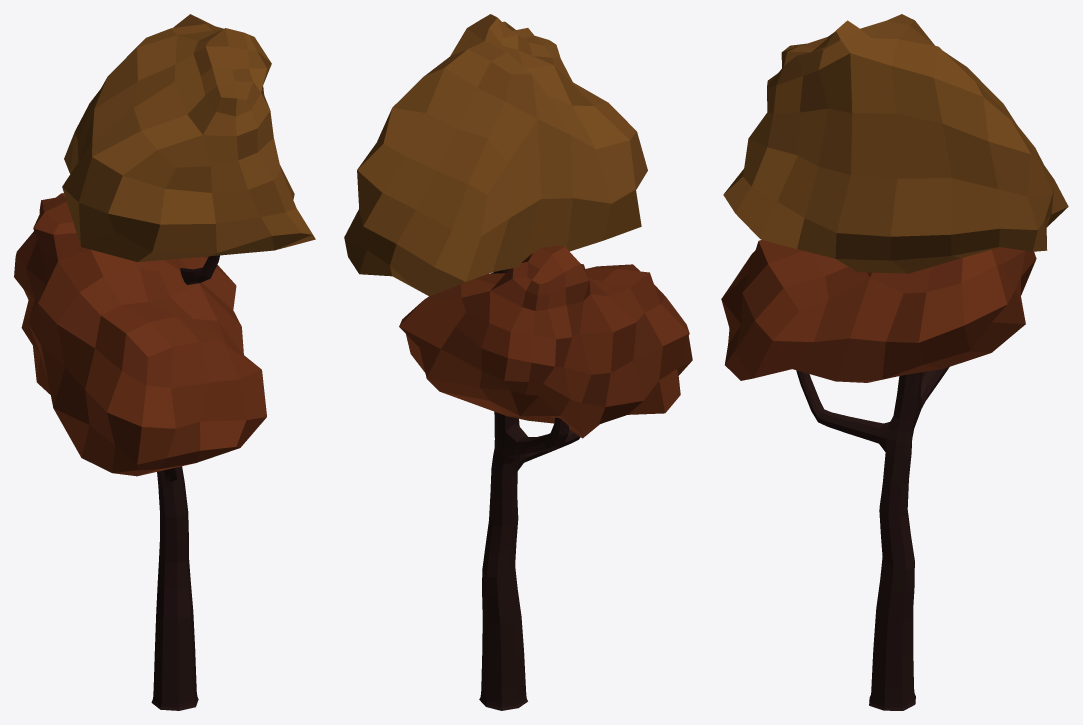
The model's file is CommonTree_Autumn_3.obj.
3 views of the same model, side by side, from view 1: azimuth 30°, elevation 25°; view 2: azimuth 150°, elevation 25°; view 3: azimuth 270°, elevation 25° (orthographic). The views are drawn at different scales.
Visible parts, largest first — view 1: CommonTree_Autumn_3_Cube.091; view 2: CommonTree_Autumn_3_Cube.091; view 3: CommonTree_Autumn_3_Cube.091.
Boxes of the visible parts, x1,y1,x2,y2 form: CommonTree_Autumn_3_Cube.091: [14, 14, 315, 710]; CommonTree_Autumn_3_Cube.091: [344, 14, 692, 710]; CommonTree_Autumn_3_Cube.091: [721, 14, 1068, 710].
Bounding box in the file's own units: 1.28 × 3.46 × 1.56.
